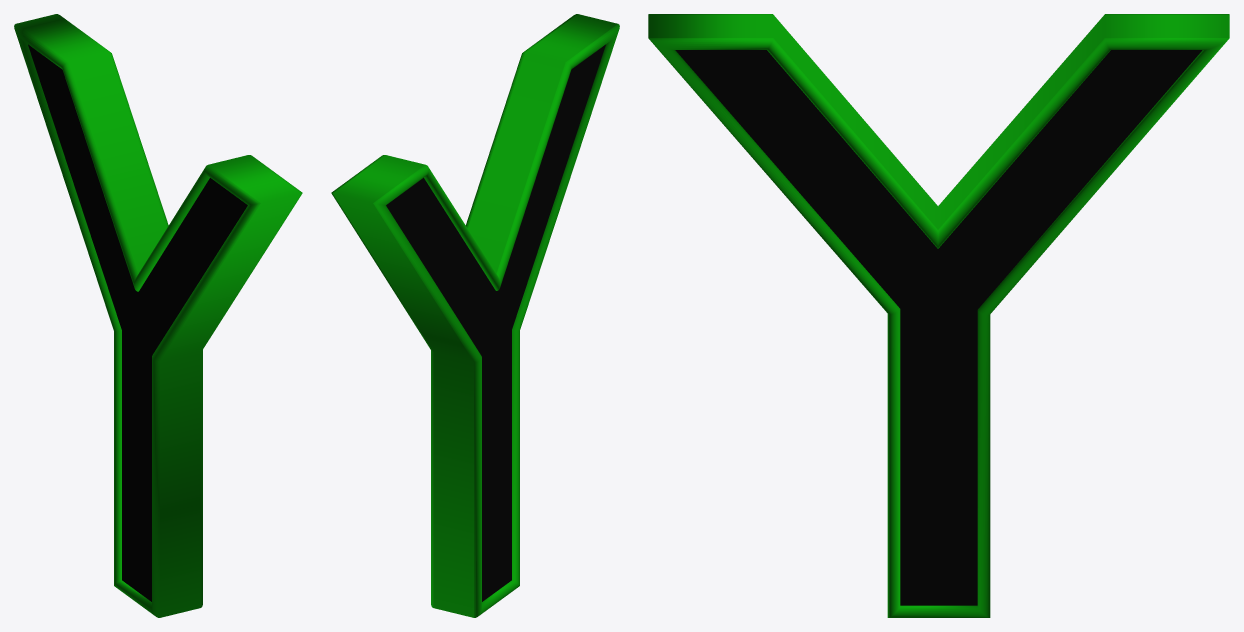
3 renders of one model, left to right at view 1: azimuth 30°, elevation 25°; view 2: azimuth 150°, elevation 25°; view 3: azimuth 270°, elevation 25°, orthographic. The views are drawn at different scales.
Visible parts, largest first — view 1: Y; view 2: Y; view 3: Y.
Part boxes in pixels (x1,y1,x2,y2): Y: (14, 14, 302, 617); Y: (331, 14, 619, 617); Y: (648, 14, 1229, 617).
Bounding box in the file's own units: 7.4 × 69.6 × 63.28.
